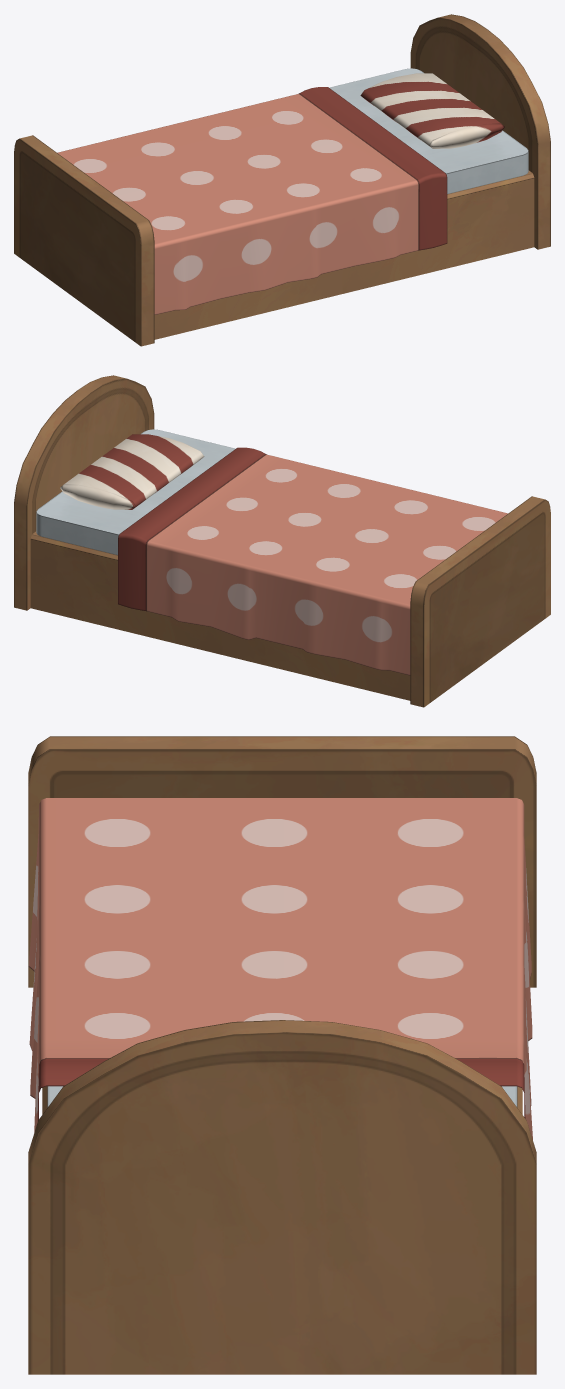
File: bed2.fbx
The picture shows the model from 3 angles, top to bottom: view 1: azimuth 30°, elevation 25°; view 2: azimuth 150°, elevation 25°; view 3: azimuth 270°, elevation 25°; orthographic projection. The views are drawn at different scales.
Parts seen in each view (by area): view 1: polySurface566; view 2: polySurface566; view 3: polySurface566.
Part boxes in pixels (<box>): polySurface566: <box>14,14,550,346</box>; polySurface566: <box>14,375,550,707</box>; polySurface566: <box>28,736,536,1374</box>.
Size of the model in its own units: 2.53 by 1.01 by 1.36.
